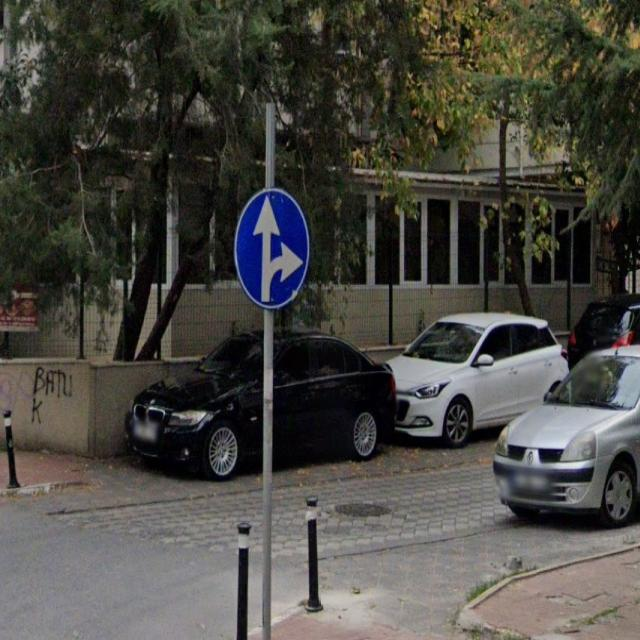ilerisag: (232, 188, 311, 310)
